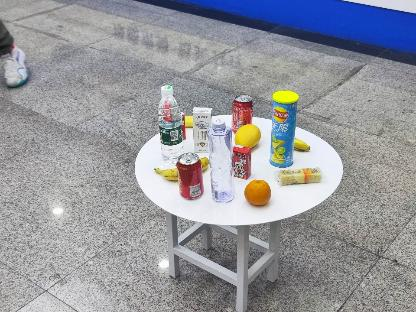Can: (176, 153, 206, 203), (232, 91, 252, 127)
Others: (272, 86, 294, 170), (192, 108, 214, 150)
Plastic Bottle: (208, 118, 235, 209)
